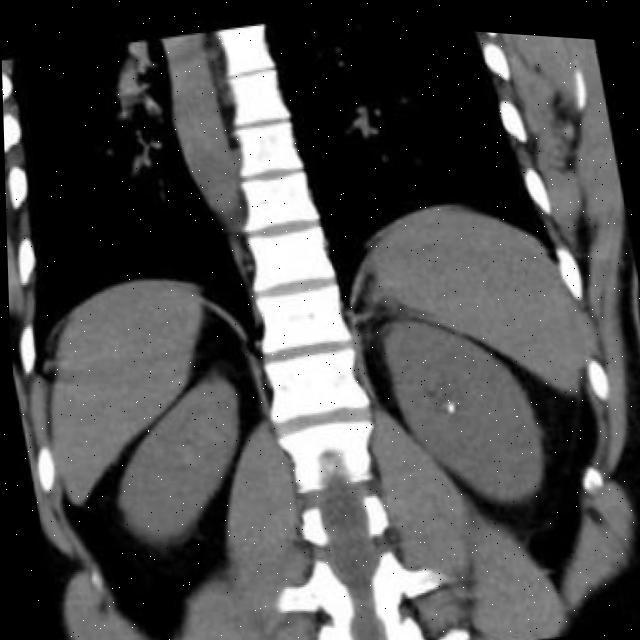Tas_Var: (440, 389, 458, 413)
